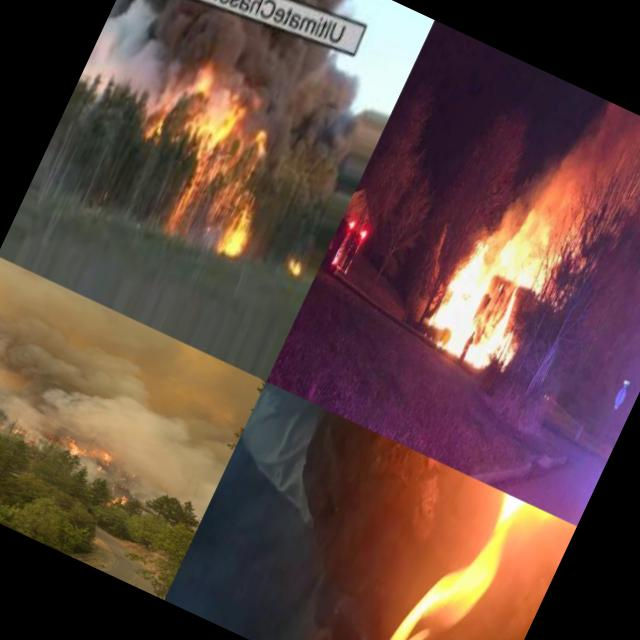fire: (164, 445, 421, 640), (121, 74, 305, 271), (420, 199, 564, 373), (59, 432, 116, 469), (276, 247, 313, 289), (112, 473, 146, 511), (0, 420, 39, 448)
smoke: (0, 256, 266, 506), (194, 18, 366, 142), (82, 0, 221, 135), (508, 82, 622, 235)
